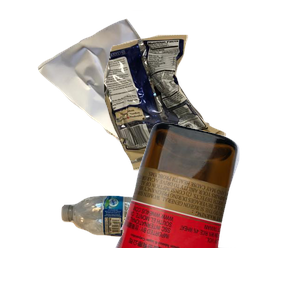glass: (113, 120, 300, 300)
paper: (35, 10, 237, 178)
plastic: (59, 193, 241, 300)
trash: (101, 32, 300, 195)
